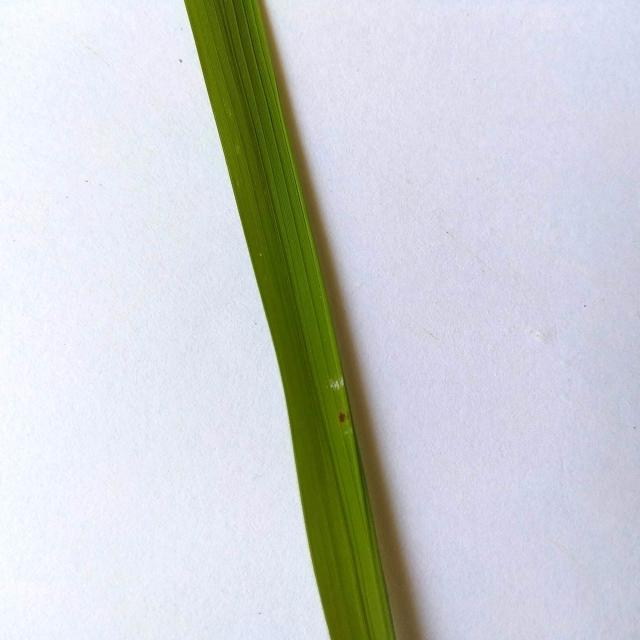brownspots: (335, 403, 350, 434)
